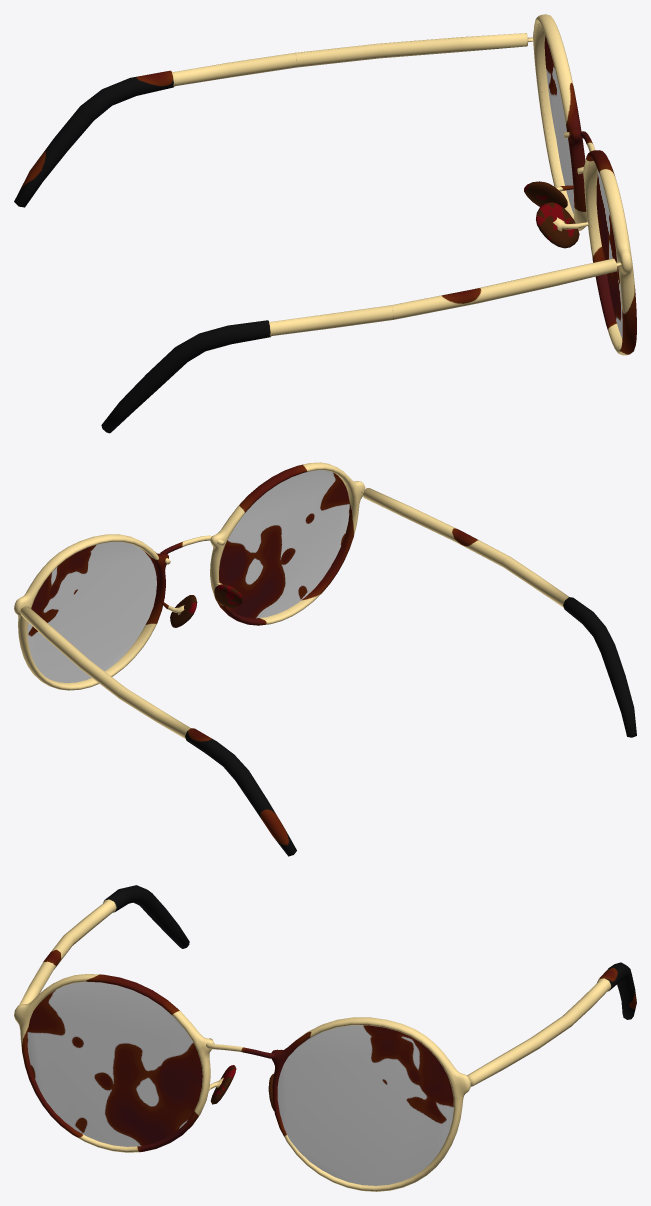
File: Glasses.fbx
The picture shows the model from 3 angles, top to bottom: view 1: azimuth 30°, elevation 25°; view 2: azimuth 150°, elevation 25°; view 3: azimuth 270°, elevation 25°; orthographic projection. The views are drawn at different scales.
Parts seen in each view (by area): view 1: Body_2_Lo, Body_Lo, Glasses_Lo_dec; view 2: Glasses_Lo_dec, Body_2_Lo, Body_Lo; view 3: Glasses_Lo_dec, Body_Lo, Body_2_Lo.
Boxes of the visible parts, box(x1,y1,x2,y2) form: Body_2_Lo: box(14, 33, 617, 433); Body_Lo: box(524, 14, 636, 355); Glasses_Lo_dec: box(544, 36, 622, 338); Glasses_Lo_dec: box(27, 470, 349, 682); Body_2_Lo: box(20, 488, 636, 856); Body_Lo: box(14, 462, 365, 690); Glasses_Lo_dec: box(27, 981, 453, 1185); Body_Lo: box(14, 974, 470, 1191); Body_2_Lo: box(19, 885, 636, 1090).
Bounding box in the file's own units: 16.71 × 5.01 × 16.96.
